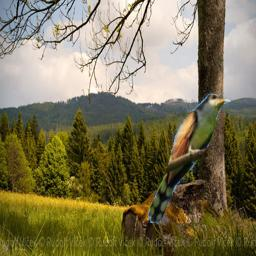Cuckoo: (148, 93, 231, 223)
